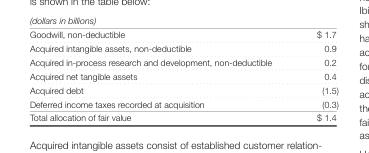table: (28, 28, 337, 122)
table column: (28, 28, 293, 122), (293, 28, 337, 122)
table row: (28, 40, 337, 54), (28, 54, 337, 68), (28, 68, 337, 82), (28, 82, 337, 96), (28, 96, 337, 110), (28, 28, 337, 40), (28, 110, 337, 122)
